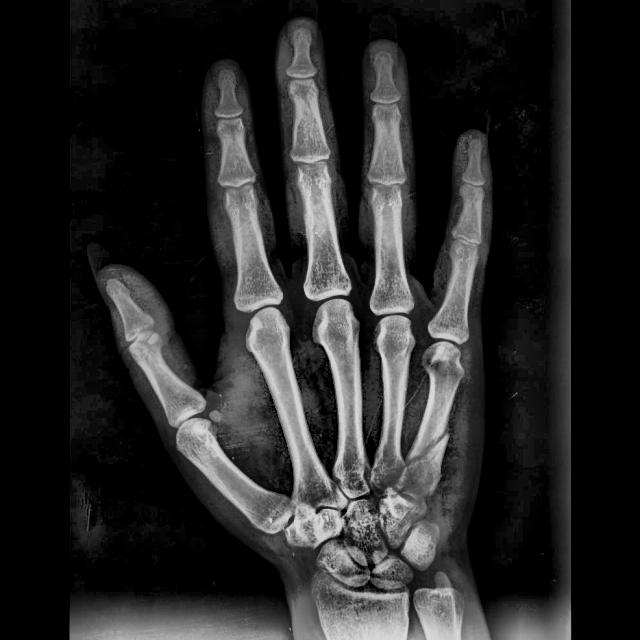fracture: (403, 428, 452, 472), (130, 328, 163, 364)
